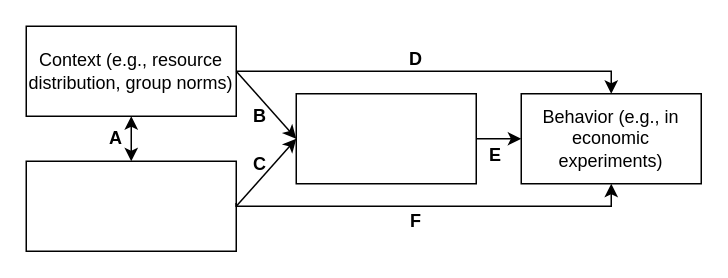
This 728x278 diagram has some shape labels left out. The shapes that lost their labels are listed below. From the top down, each one's centre as x and y in pixels, then its label:
point 385,138: Internal states (e.g., preferences, motivations)
point 130,205: Individual characteristics (e.g., personality, past experiences)
